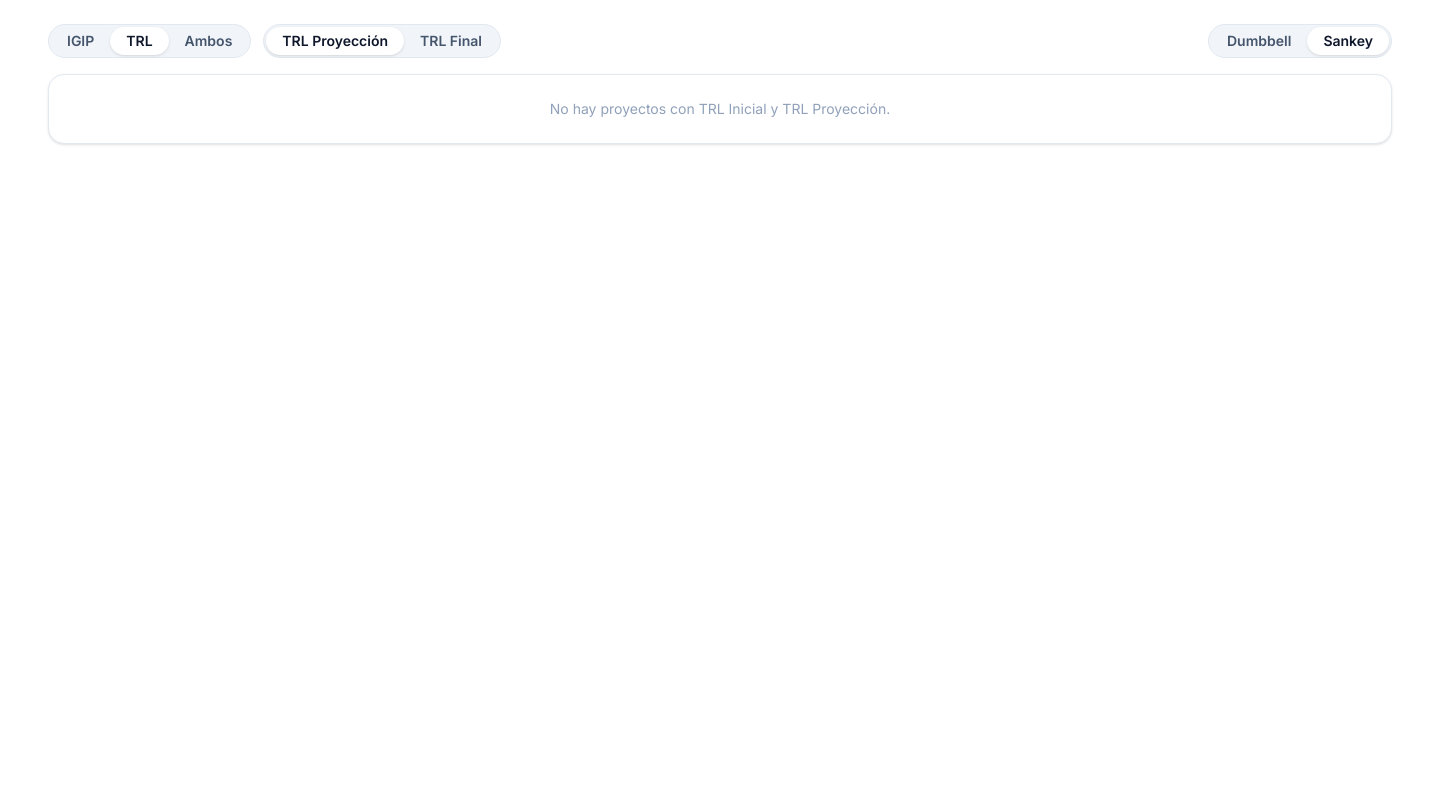
Test case: VitrinaIndicadoresDashboard › muestra encabezados IGIP con fondo gris y leyenda fuera de la tarjeta
Click the tab "IGIP": (81, 41) [51, 27, 110, 55]
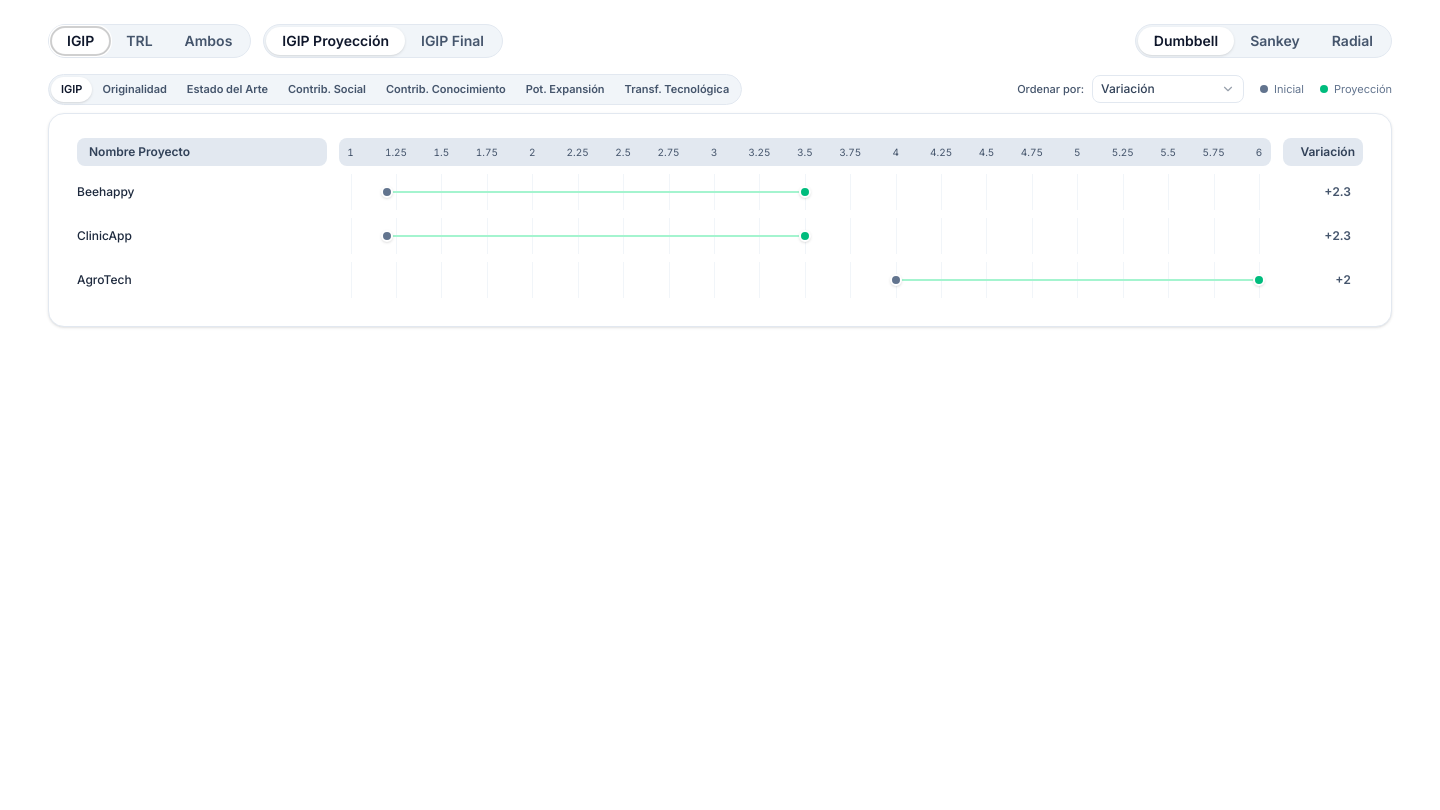
expect the button with aria-label "Ordenar por" is shown: met, box [1092, 75, 1244, 103]
expect the text "1.5" is shown: met, box [434, 144, 449, 159]
expect the text "1.75" is shown: met, box [476, 144, 498, 159]
Hover over the picture named "IGIP 1.2 → 3.5: ClinicApp": (714, 235) [77, 228, 1351, 242]
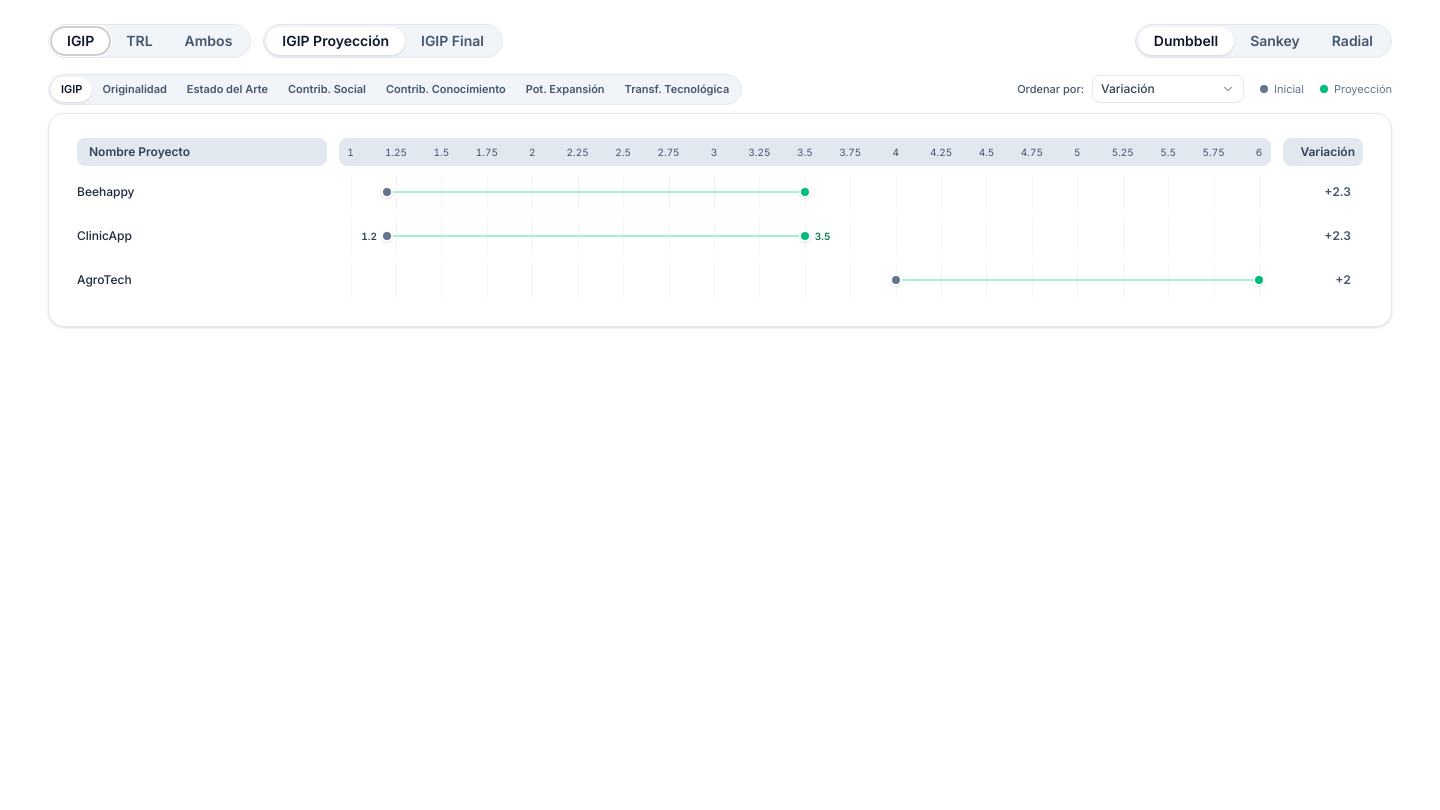
expect the text "1.2" is shown: met, box [361, 228, 377, 243]
expect the text "3.5" in the row of "ClinicApp" is shown: met, box [815, 229, 830, 241]
Hover over the picture named "IGIP 4 → 6: AgroTech": (104, 279) [77, 272, 1351, 286]
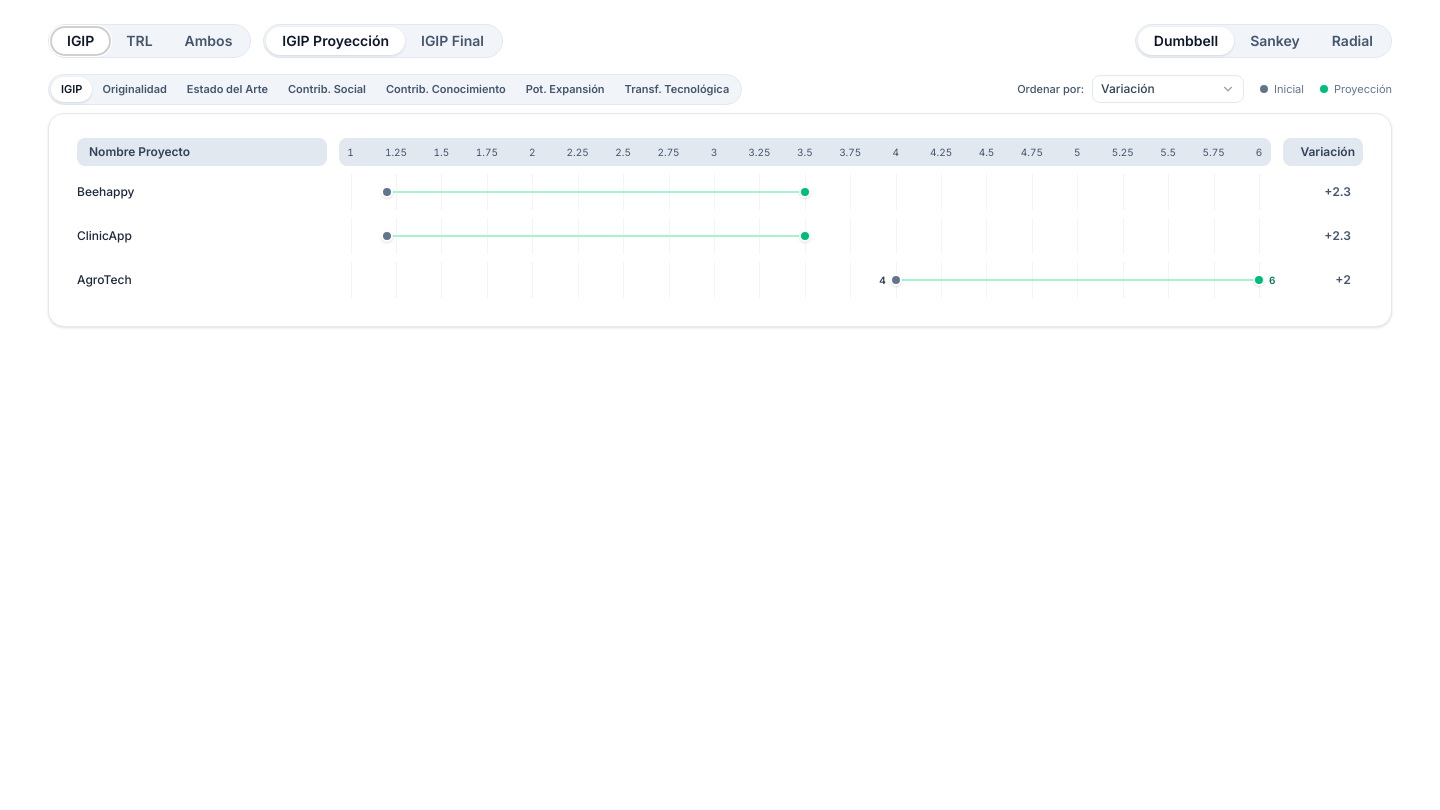
expect the text "4" in the row of "AgroTech" is shown: met, box [879, 273, 886, 285]
expect the text "6" in the row of "AgroTech" is shown: met, box [1269, 273, 1276, 285]
